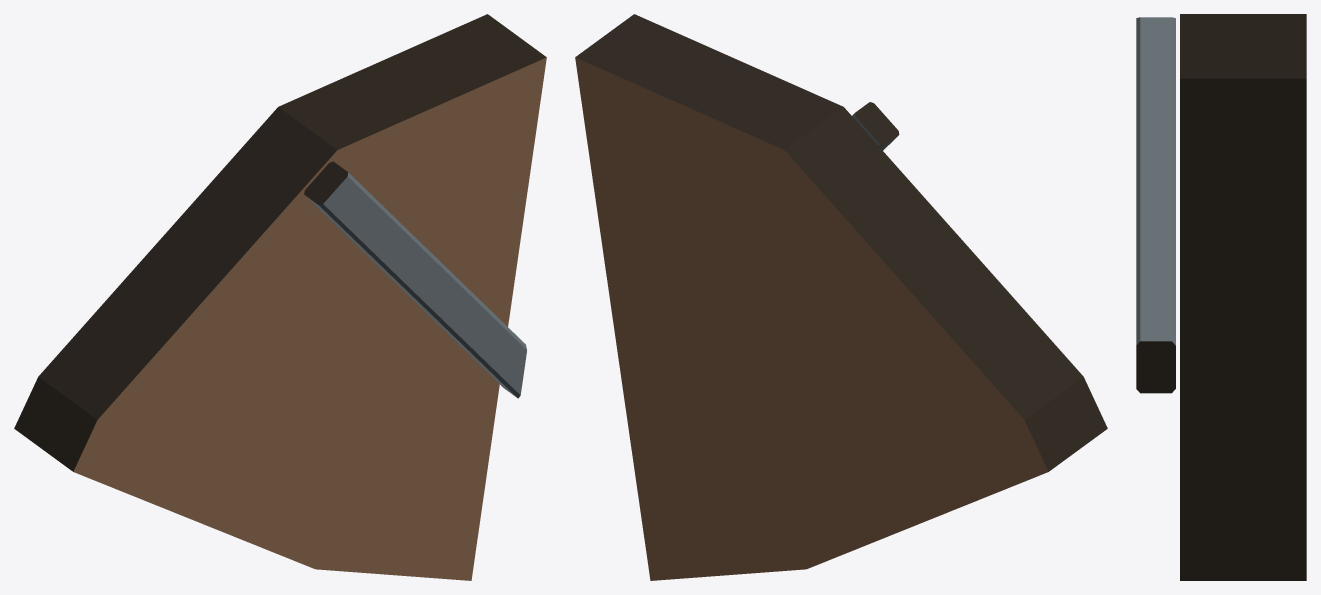
Rendered from SM_DoorShard_03_66.fbx.
The picture shows the model from 3 angles, left to right: view 1: azimuth 30°, elevation 25°; view 2: azimuth 150°, elevation 25°; view 3: azimuth 270°, elevation 25°; orthographic projection. The views are drawn at different scales.
Visible parts, largest first — view 1: SM_DoorShard_03_66; view 2: SM_DoorShard_03_66; view 3: SM_DoorShard_03_66.
Boxes of the visible parts, bbox=[...] form: SM_DoorShard_03_66: bbox=[14, 14, 546, 580]; SM_DoorShard_03_66: bbox=[575, 14, 1107, 580]; SM_DoorShard_03_66: bbox=[1136, 14, 1306, 580].
Size of the model in its own units: 73.87 by 21.5 by 75.31.
